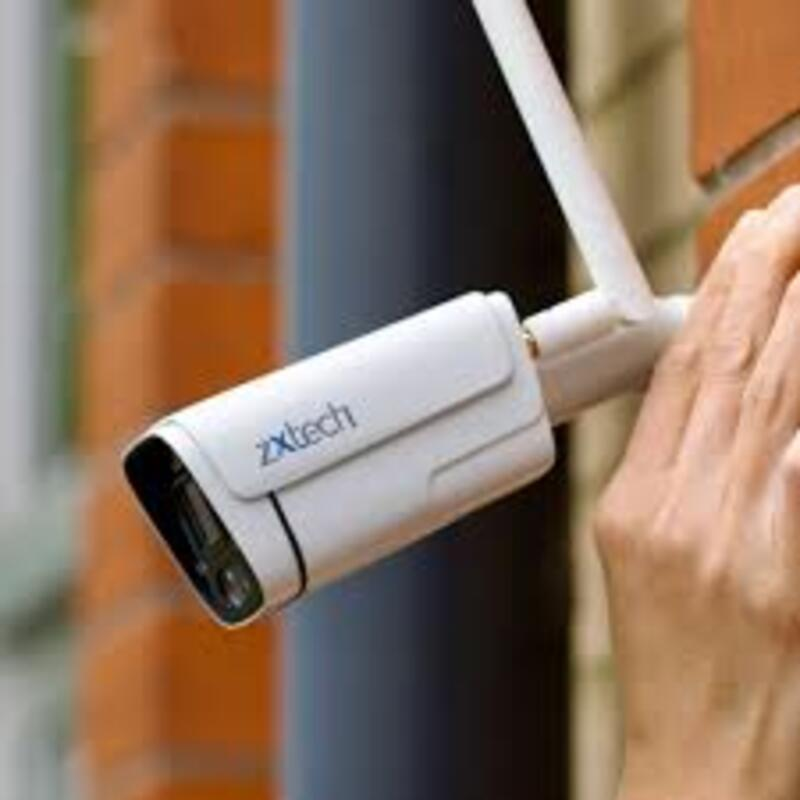bullet: (91, 442, 541, 683)
